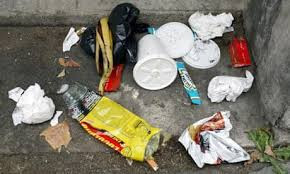cardboard: (177, 113, 254, 168), (244, 163, 255, 169)
food: (90, 13, 117, 97)
paper: (8, 81, 61, 128), (203, 72, 261, 103), (186, 6, 239, 38), (174, 57, 199, 106)
plastic: (59, 75, 168, 167), (128, 34, 173, 94), (155, 19, 193, 64), (181, 36, 223, 69)
plastic bag: (81, 6, 141, 58)
wood: (242, 127, 290, 174)
